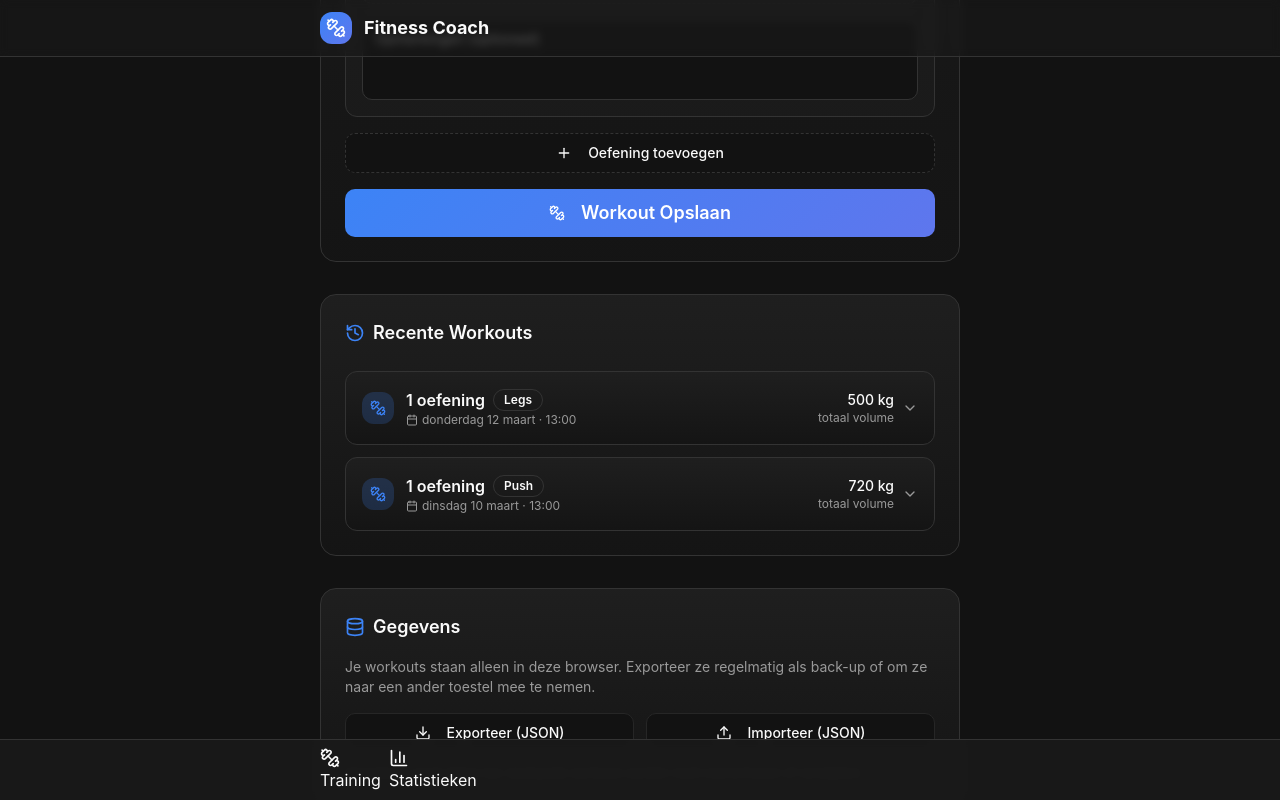
Test: bewerken en verwijderen › verwijderen vraagt bevestiging; annuleren verwijdert niets
(page scrolled)
Click the text "Legs": (518,400) x1=493 y1=389 x2=543 y2=411
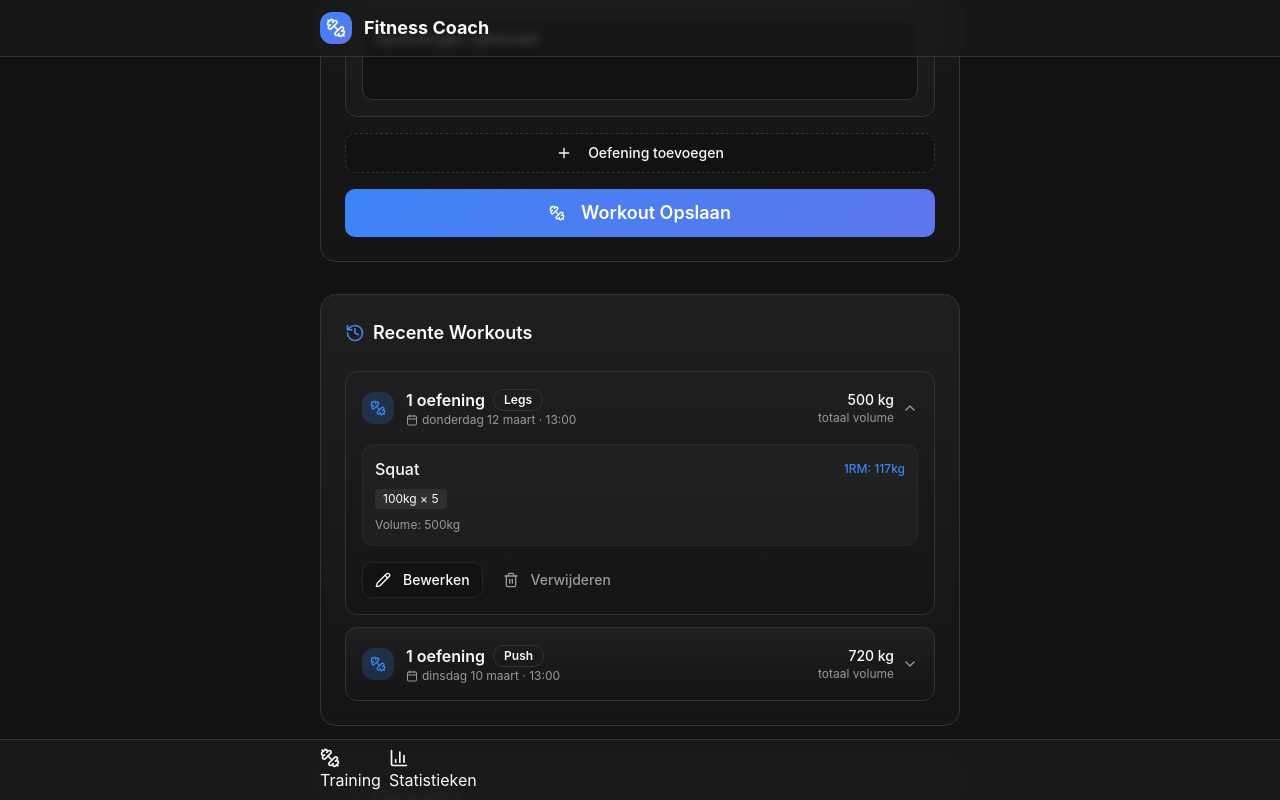
Click the button with aria-label "Workout verwijderen": (557,580) x1=491 y1=562 x2=623 y2=598
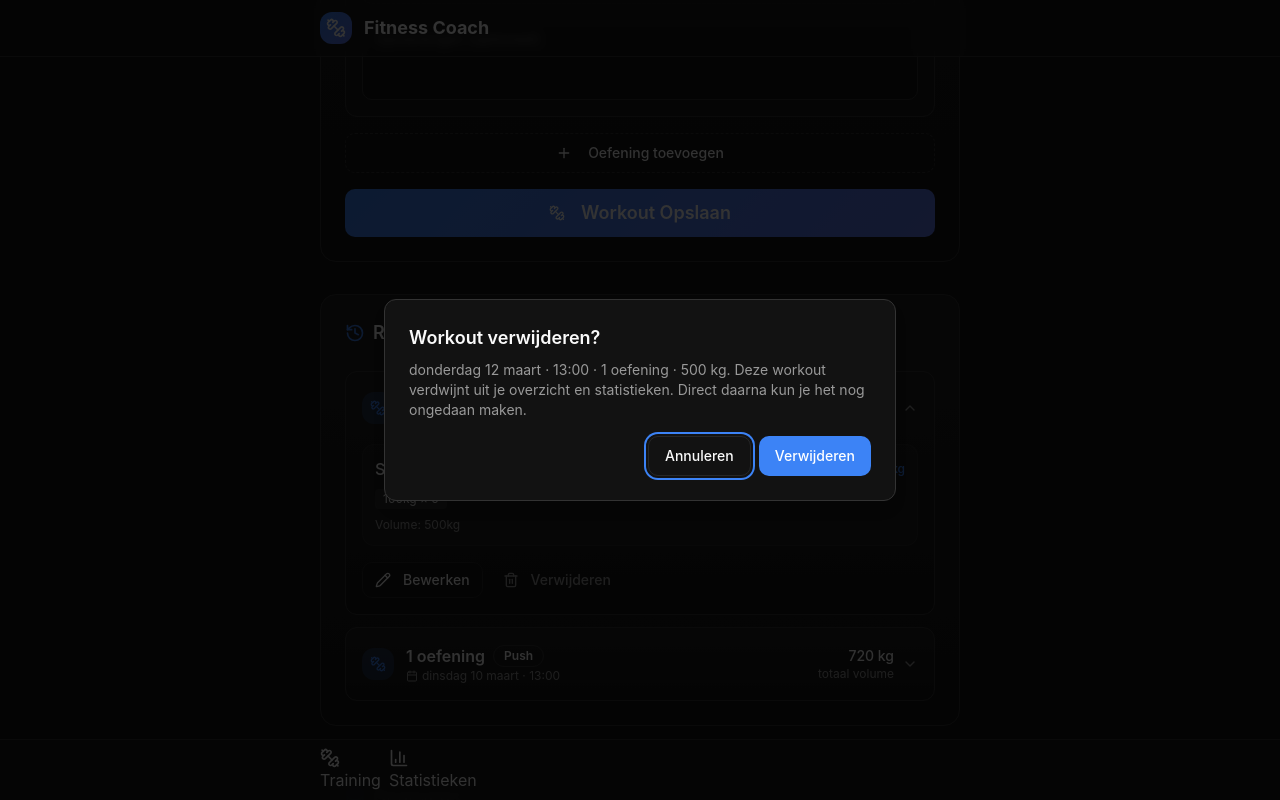
Click the button "Annuleren": (699,456) x1=648 y1=436 x2=751 y2=476
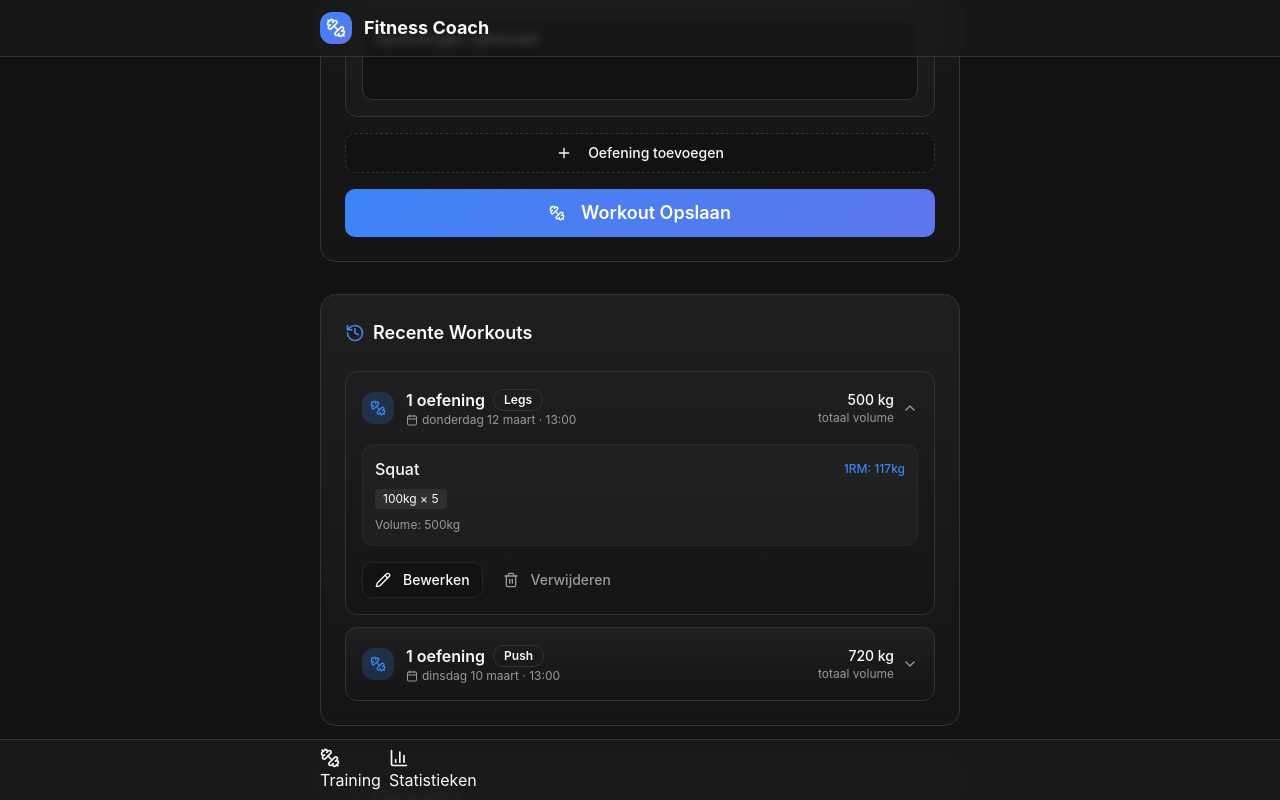
Expected: the dialog is gone
